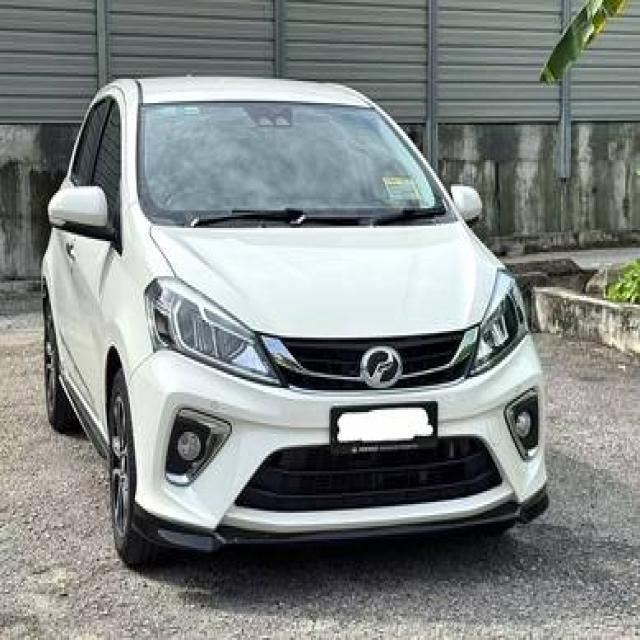PeroduaMyvi: (38, 70, 549, 568)
